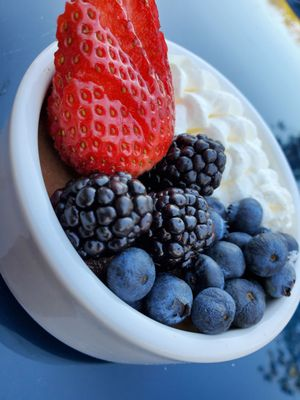sushi: (3, 15, 300, 371)
